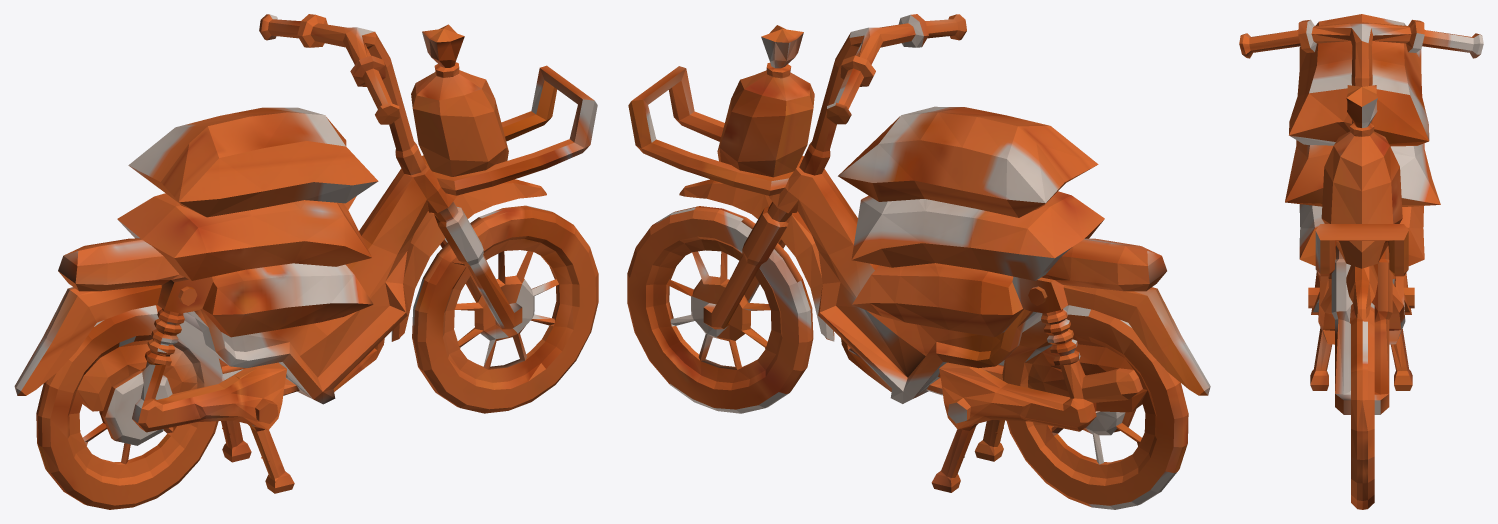
The model's file is motor karung.obj.
3 views of the same model, side by side, from view 1: azimuth 30°, elevation 25°; view 2: azimuth 150°, elevation 25°; view 3: azimuth 270°, elevation 25° (orthographic). The views are drawn at different scales.
Parts seen in each view (by area): view 1: texture_pbr_v128; view 2: texture_pbr_v128; view 3: texture_pbr_v128.
Boxes of the visible parts, <box> form: texture_pbr_v128: <box>14,14,598,509</box>; texture_pbr_v128: <box>627,14,1210,509</box>; texture_pbr_v128: <box>1239,14,1483,509</box>.
Bounding box in the file's own units: 1.1 × 0.7684 × 0.4131.
